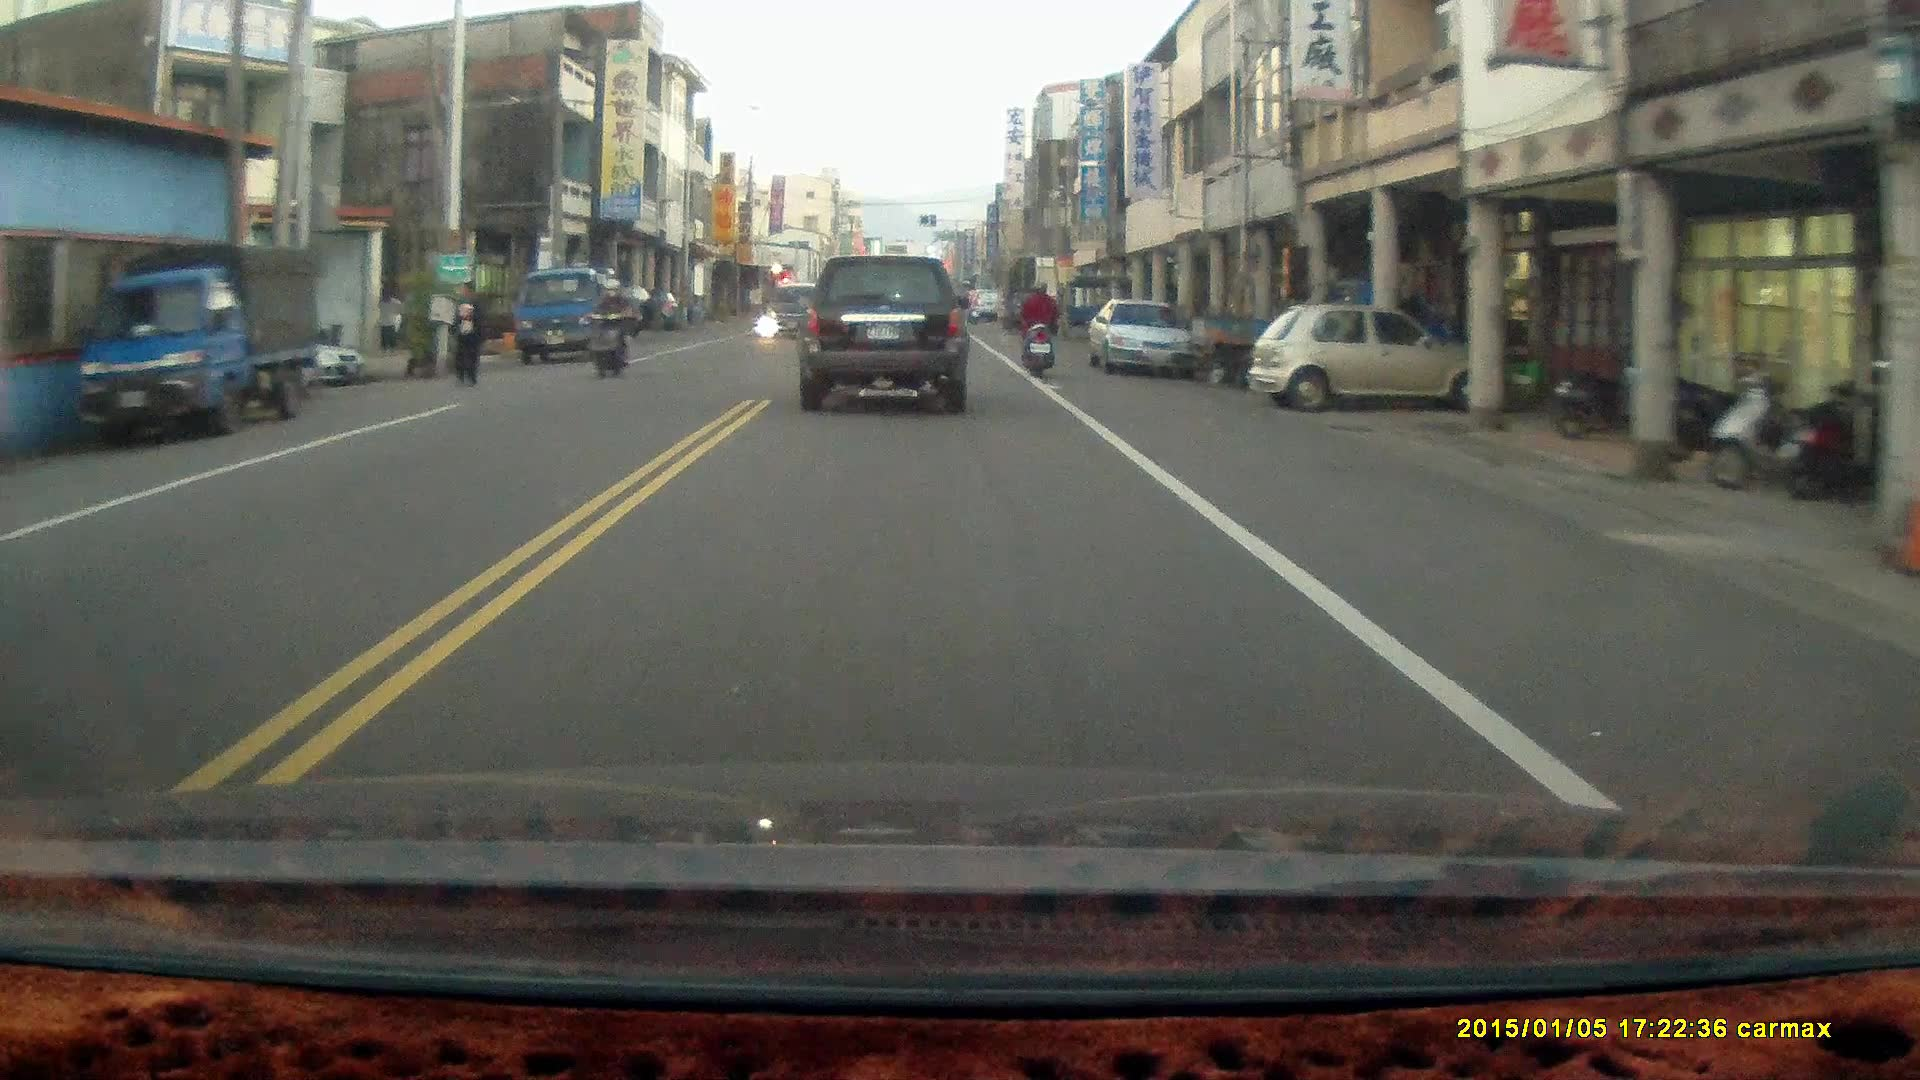pedestrian: (447, 275, 489, 389)
rider: (583, 276, 636, 378), (1018, 274, 1058, 373)
vehicle: (75, 237, 326, 448), (794, 250, 973, 415), (1251, 302, 1500, 409), (517, 264, 650, 361), (1090, 299, 1198, 377)
